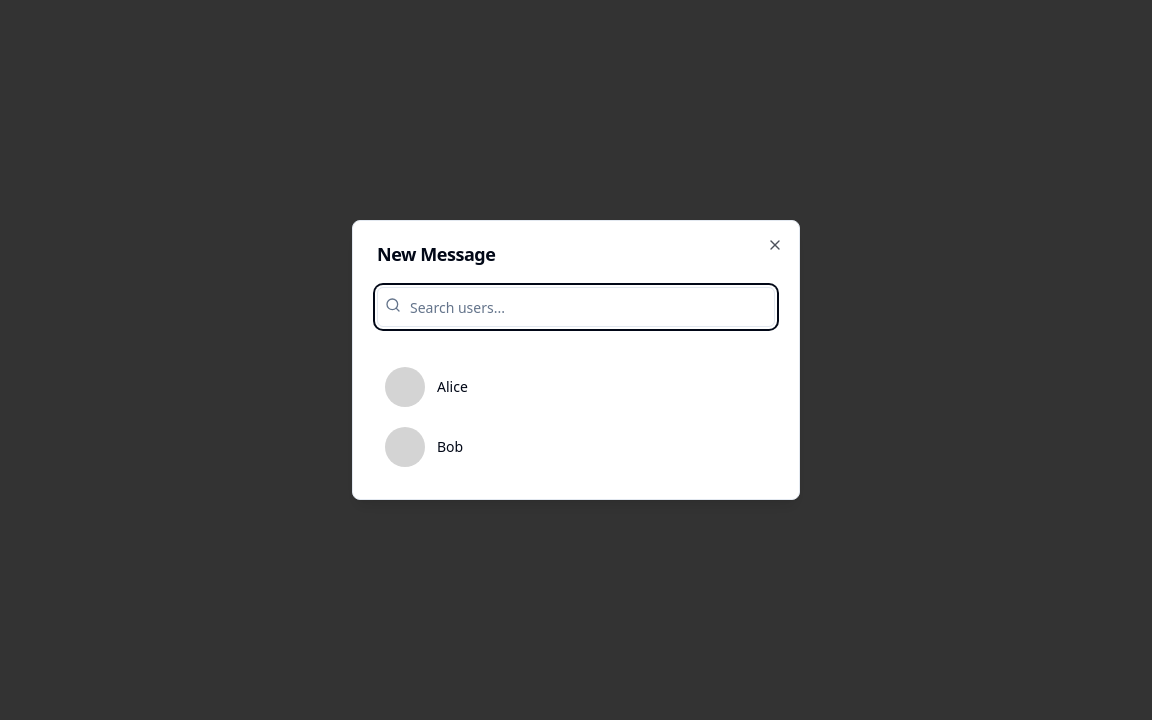
Scenario: NewDmModal › shows empty state when no users found
Step 1. Type "Z" into the field with placeholder "Search users..." → (576, 307), box [377,287,775,327]
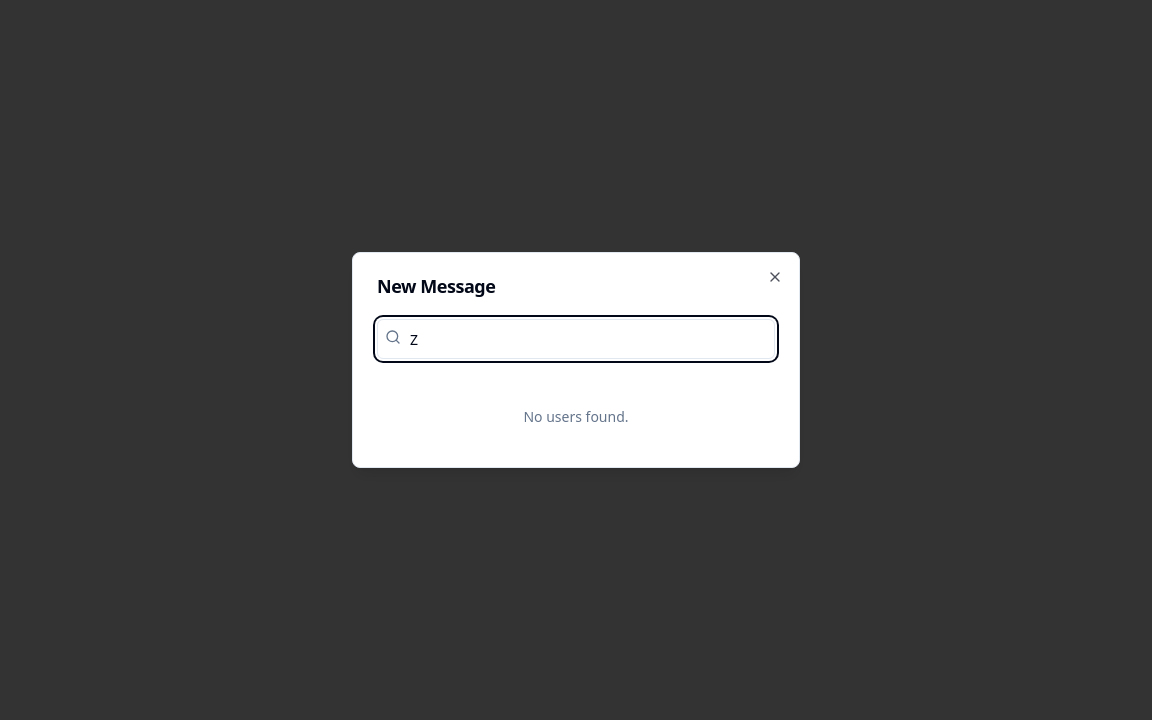
Expected: the text "No users found." is shown, [524,407,629,426]
